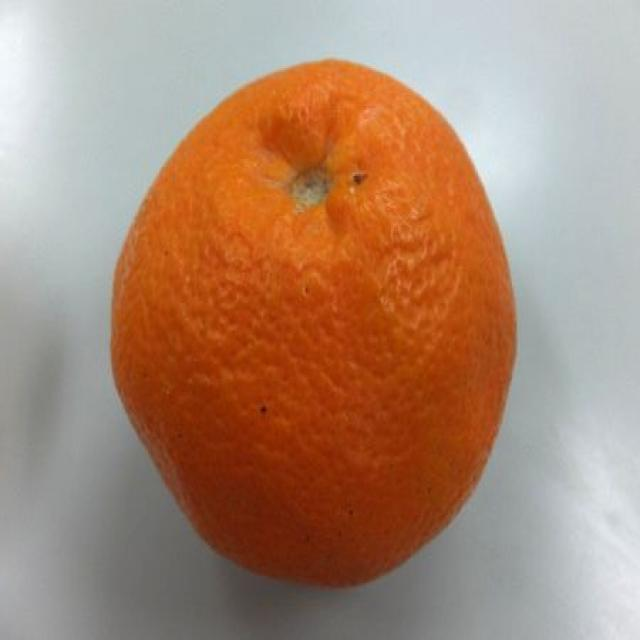Orange: (103, 58, 525, 596)
